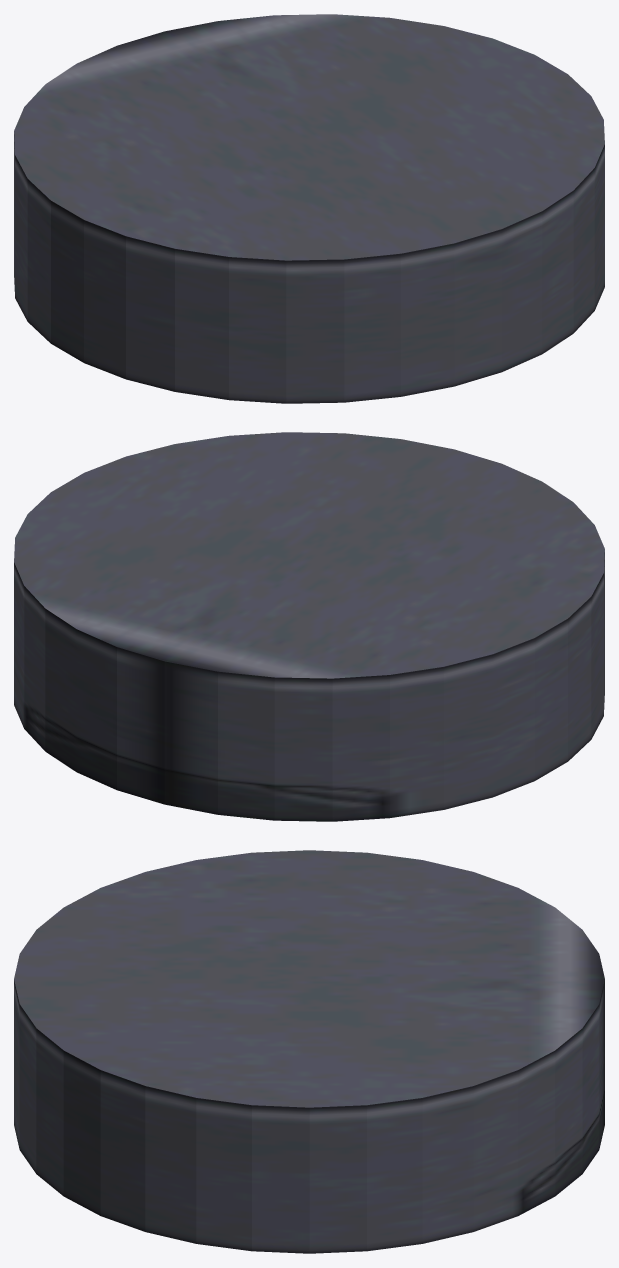
File: core2.glb
3 views of the same model, one above another, from view 1: azimuth 30°, elevation 25°; view 2: azimuth 150°, elevation 25°; view 3: azimuth 270°, elevation 25° (orthographic). The views are drawn at different scales.
Parts seen in each view (by area): view 1: Room; view 2: Room; view 3: Room.
Part boxes in pixels (x1=…): Room: x1=14, y1=14, x2=604, y2=403; Room: x1=14, y1=432, x2=604, y2=821; Room: x1=14, y1=850, x2=604, y2=1253.
Bounding box in the file's own units: 22.68 × 6.8 × 22.
Materials: 3 (3 with a texture image).
